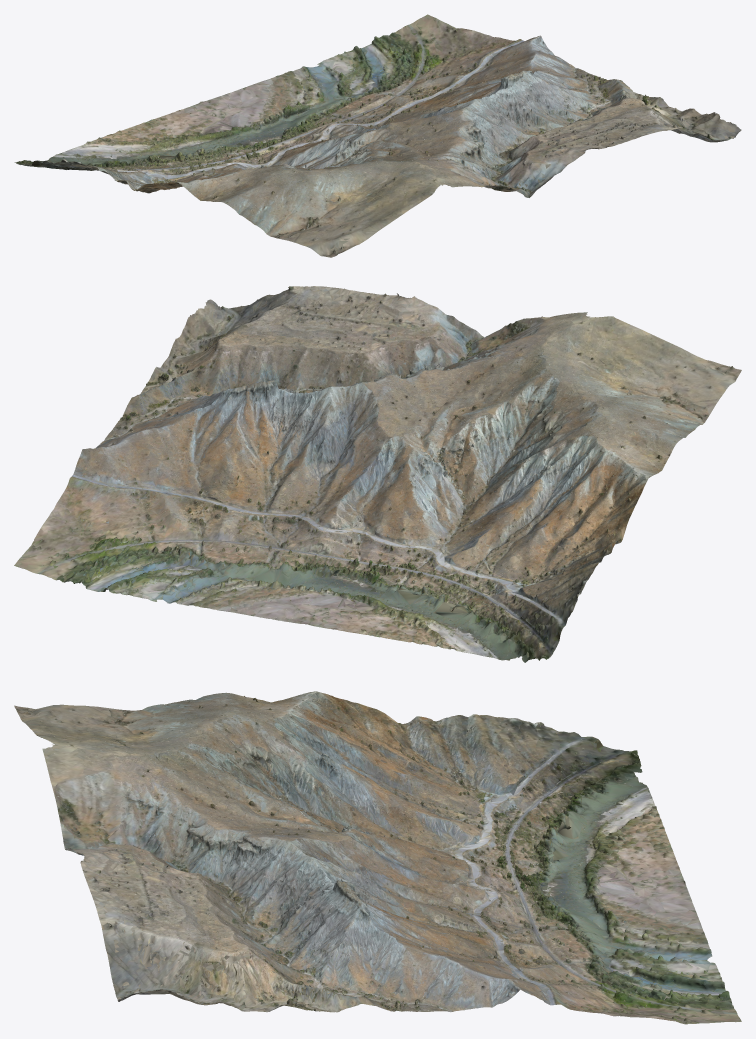
3 views of the same model, one above another, from view 1: azimuth 30°, elevation 25°; view 2: azimuth 150°, elevation 25°; view 3: azimuth 270°, elevation 25° (orthographic). The views are drawn at different scales.
Parts seen in each view (by area): view 1: kemah; view 2: kemah; view 3: kemah.
Boxes of the visible parts, <box> form: kemah: <box>14,14,741,257</box>; kemah: <box>14,286,741,662</box>; kemah: <box>14,691,741,1024</box>.
Bounding box in the file's own units: 999 × 210 × 964.
Materials: 4 (4 with a texture image).
